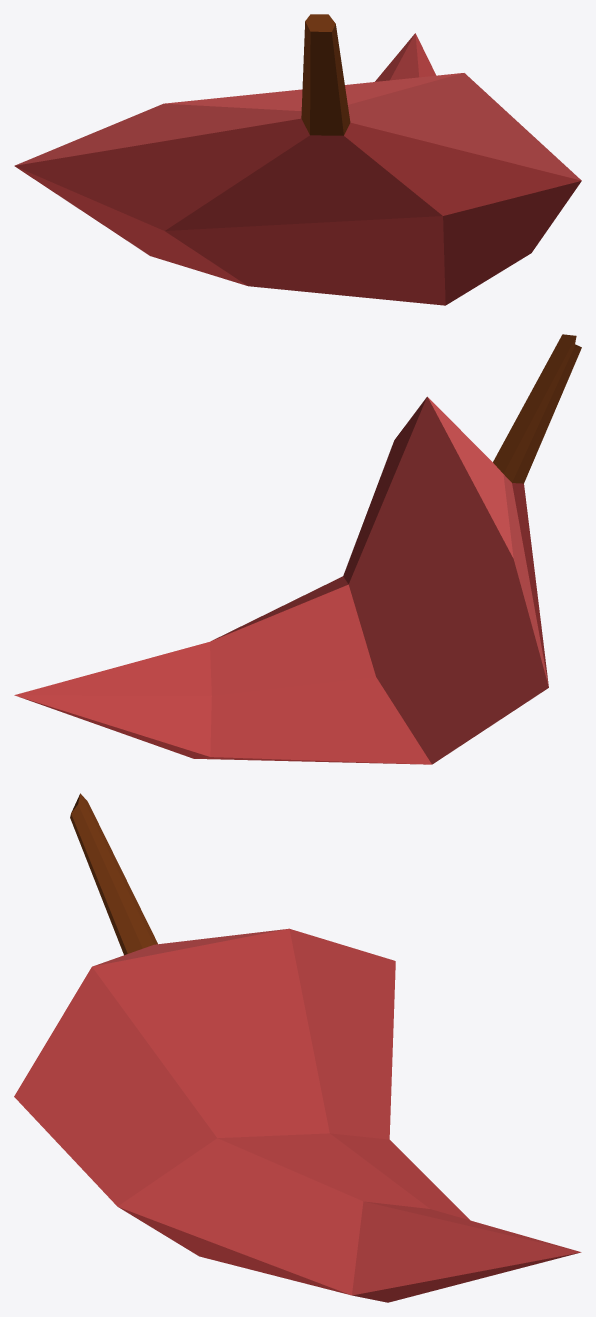
The model's file is Leaf1.fbx.
3 renders of one model, top to bottom at view 1: azimuth 30°, elevation 25°; view 2: azimuth 150°, elevation 25°; view 3: azimuth 270°, elevation 25°, orthographic. The views are drawn at different scales.
Visible parts, largest first — view 1: Leaf1; view 2: Leaf1; view 3: Leaf1.
Boxes of the visible parts, x1,y1,x2,y2 form: Leaf1: [14, 14, 581, 305]; Leaf1: [14, 334, 581, 764]; Leaf1: [14, 793, 581, 1302].
Bounding box in the file's own units: 0.268 × 0.1977 × 0.2746.
